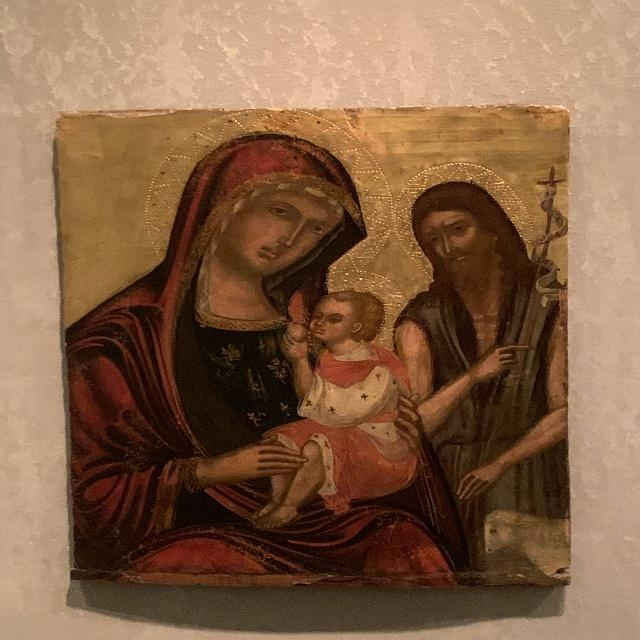aura: (136, 109, 390, 268), (393, 157, 533, 261), (286, 275, 413, 352)
christ_kid: (249, 266, 419, 526)
cross: (528, 160, 570, 270)
mary: (52, 115, 427, 584)
st_john: (389, 142, 566, 586)
